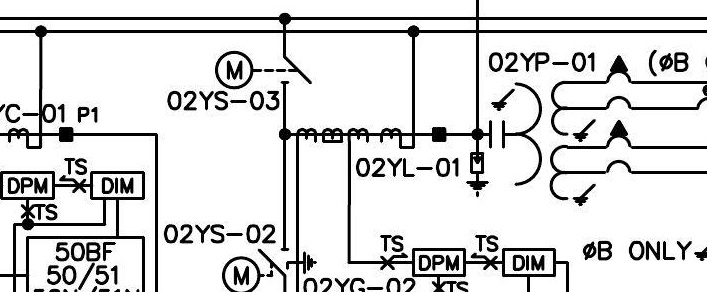115_1way_ds_w_motor: (214, 49, 313, 90)
115_cvt_1p: (488, 54, 634, 207)
115_la: (465, 152, 489, 198)
DIM: (90, 171, 146, 200), (502, 248, 556, 277)
DPM: (412, 248, 466, 277)
